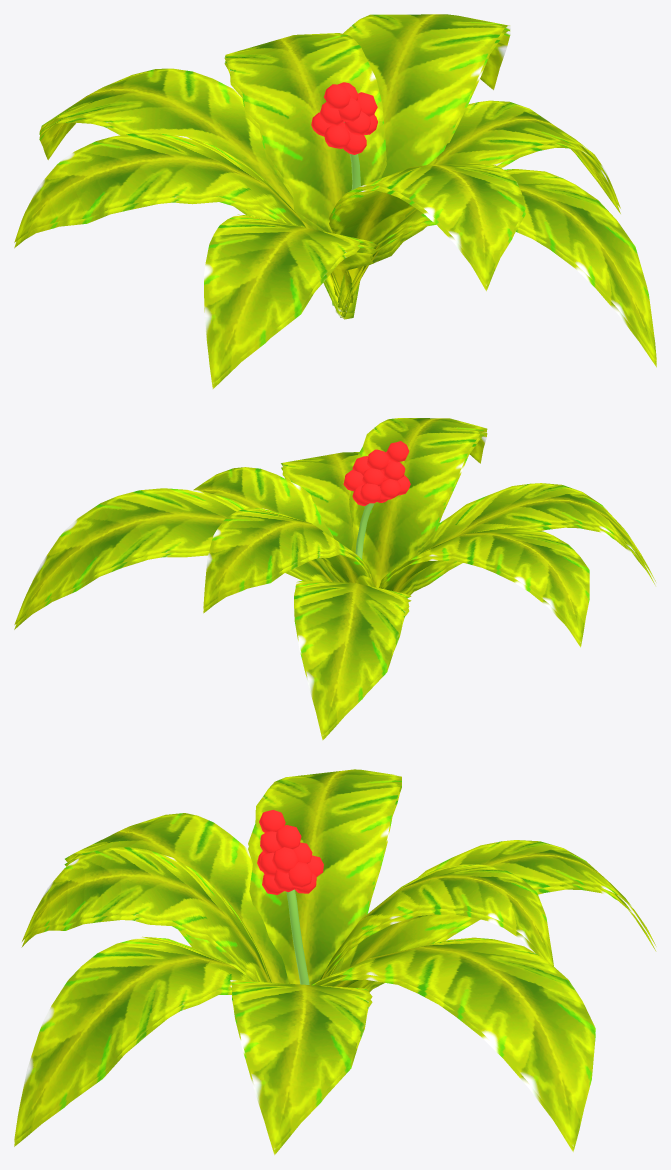
File: SM-Plants-08.FBX
3 renders of one model, top to bottom at view 1: azimuth 30°, elevation 25°; view 2: azimuth 150°, elevation 25°; view 3: azimuth 270°, elevation 25°, orthographic. The views are drawn at different scales.
Parts seen in each view (by area): view 1: SM-Plants-08; view 2: SM-Plants-08; view 3: SM-Plants-08.
Part boxes in pixels (bbox=[...]): SM-Plants-08: bbox=[14, 14, 656, 389]; SM-Plants-08: bbox=[14, 418, 656, 740]; SM-Plants-08: bbox=[14, 769, 656, 1155].
Bounding box in the file's own units: 174 × 166 × 71.28.
Materials: 1 (1 with a texture image).
